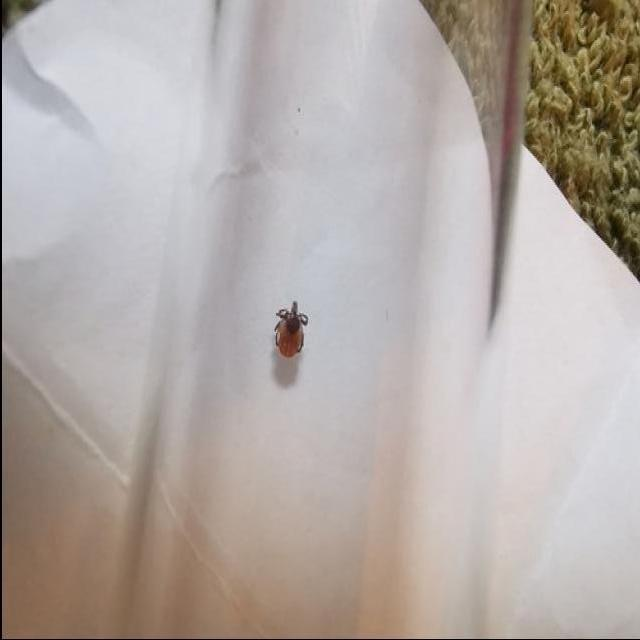Ixodes Ricinus-F: (274, 302, 306, 360)
